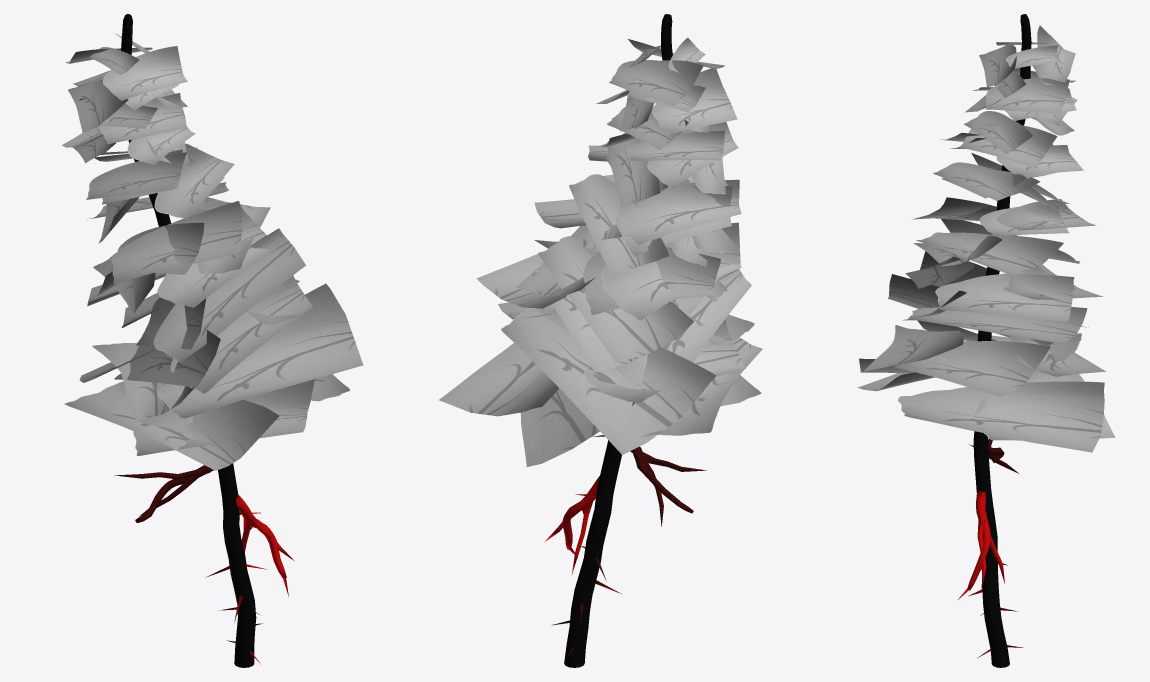
File: M_Pine_5_12.fbx
3 views of the same model, side by side, from view 1: azimuth 30°, elevation 25°; view 2: azimuth 150°, elevation 25°; view 3: azimuth 270°, elevation 25° (orthographic). The views are drawn at different scales.
Parts seen in each view (by area): view 1: Mobile_Pine_12; view 2: Mobile_Pine_12; view 3: Mobile_Pine_12.
Boxes of the visible parts, x1,y1,x2,y2 form: Mobile_Pine_12: (61, 14, 363, 667); Mobile_Pine_12: (439, 14, 762, 667); Mobile_Pine_12: (857, 14, 1115, 667).
Bounding box in the file's own units: 1974 × 3964 × 1793.
